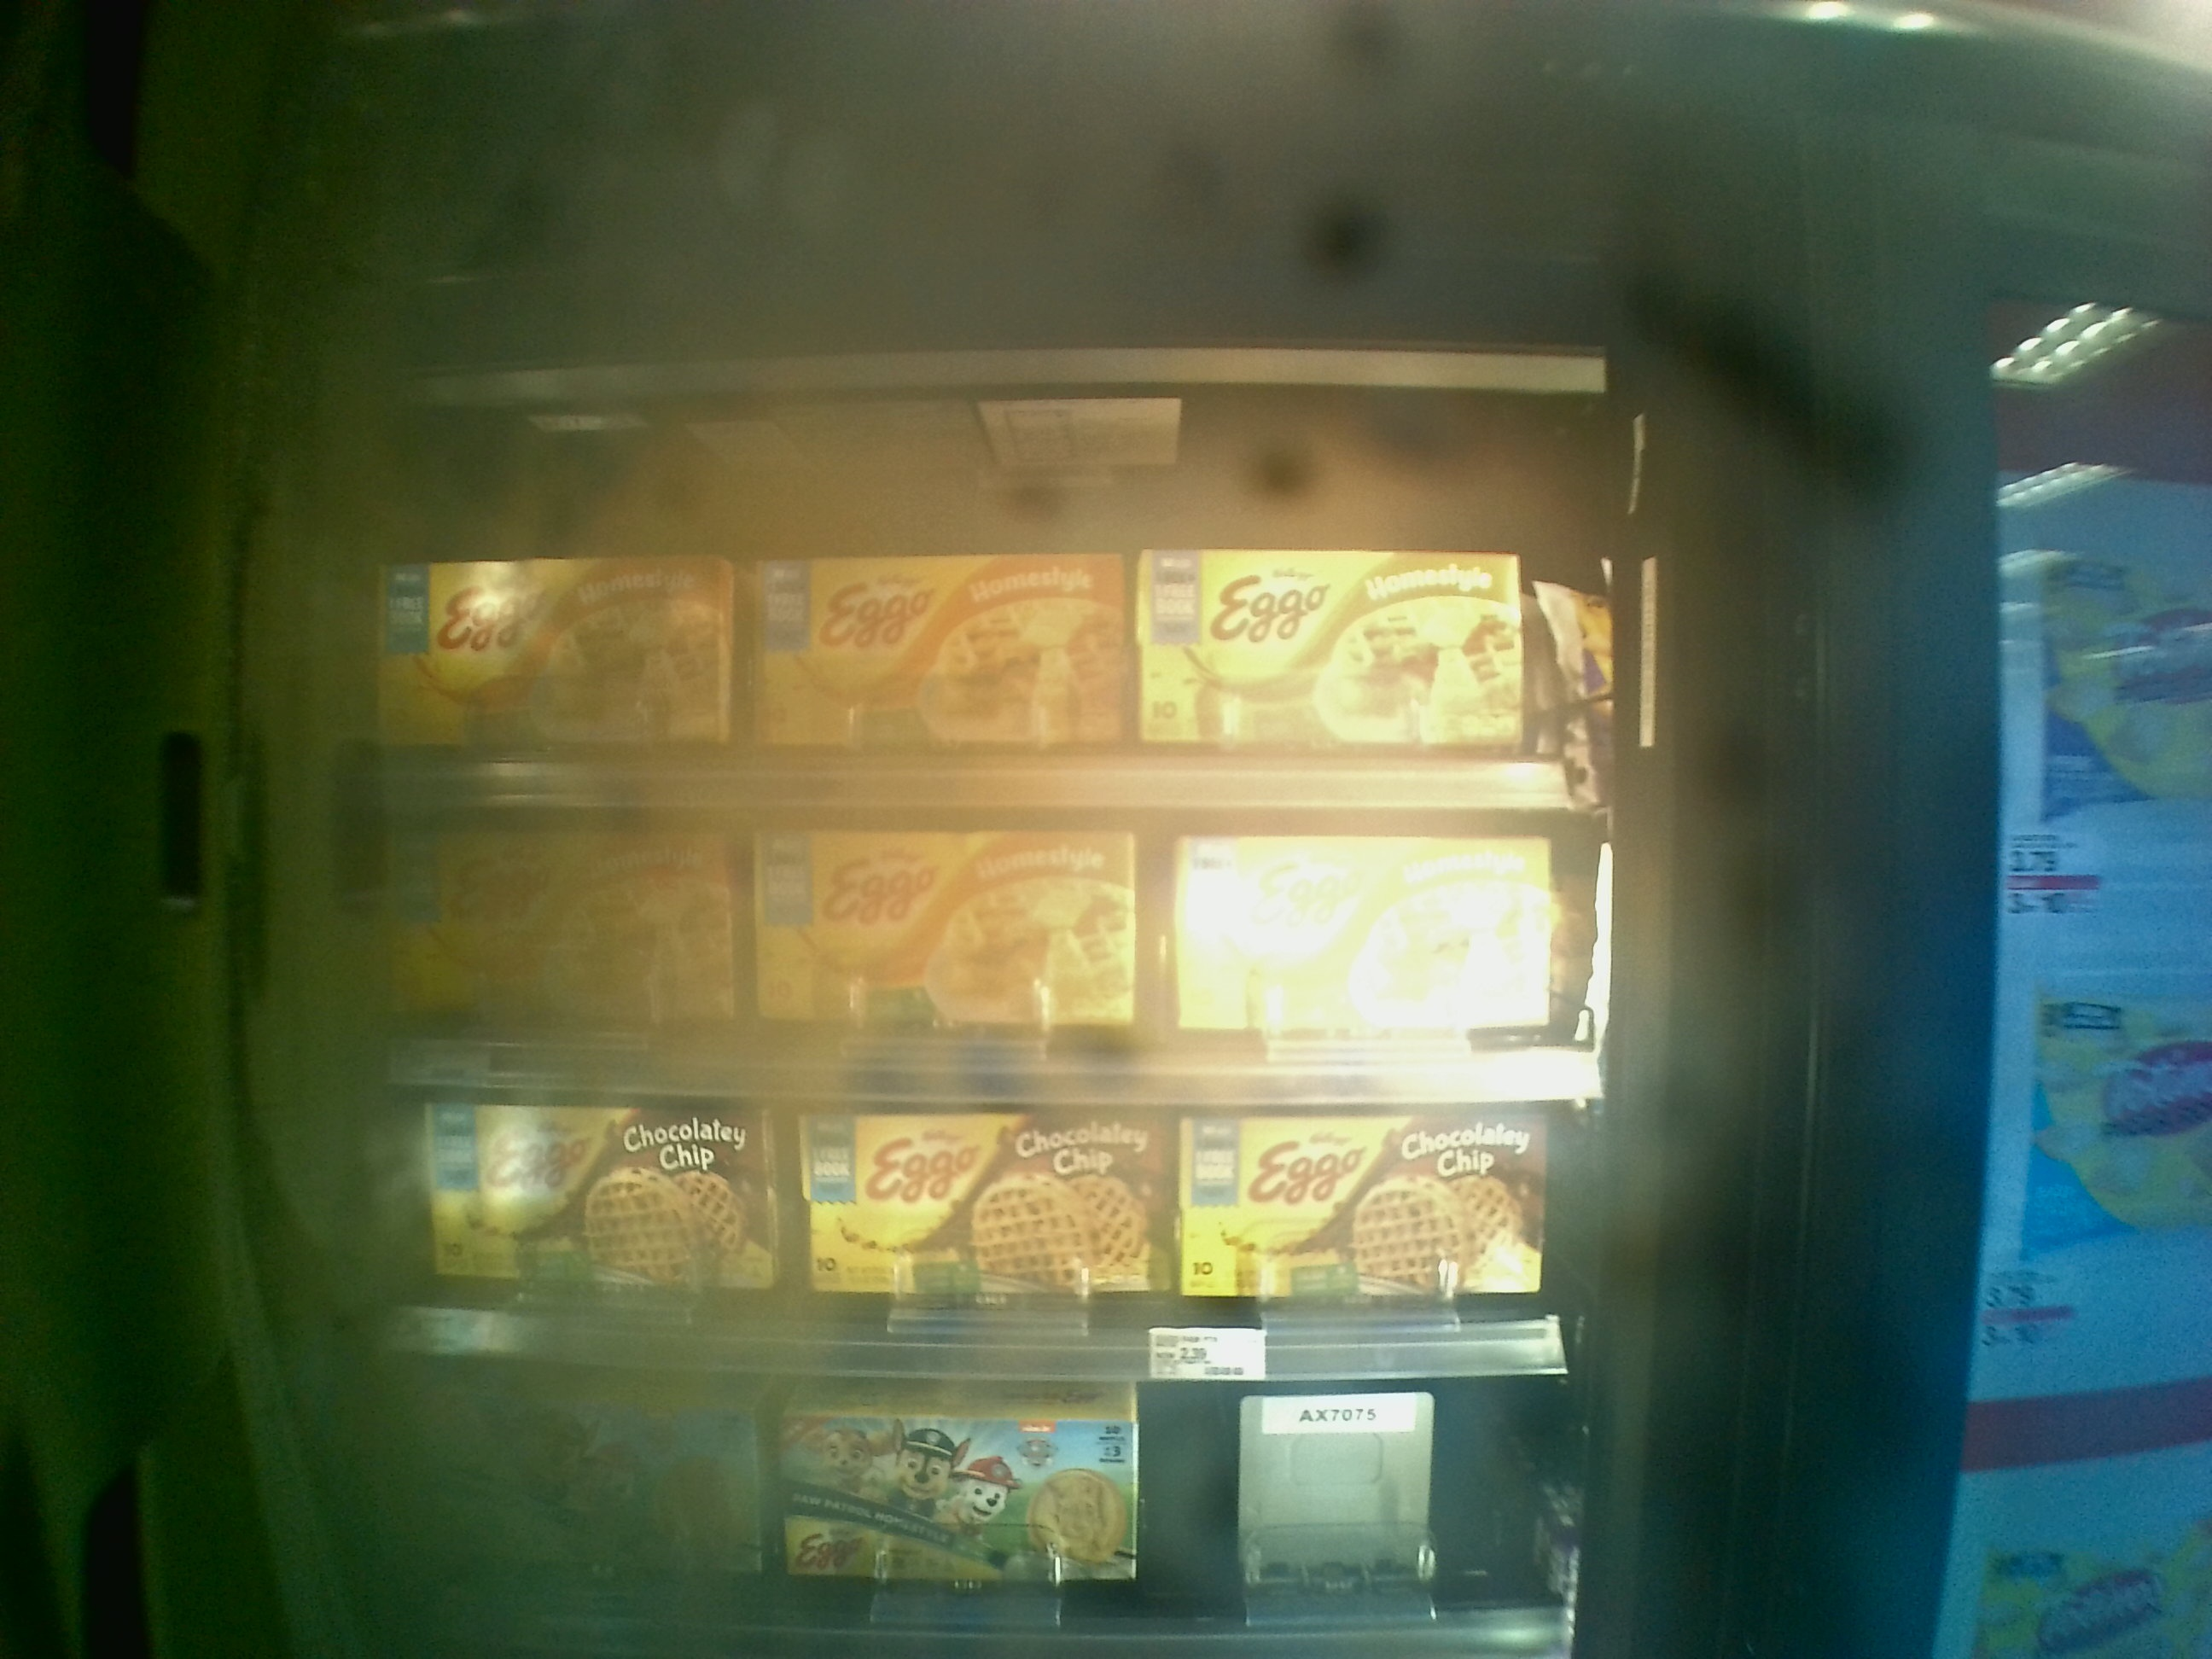frozen-food-shelf: (380, 355, 1575, 807), (388, 1086, 1564, 1368)
